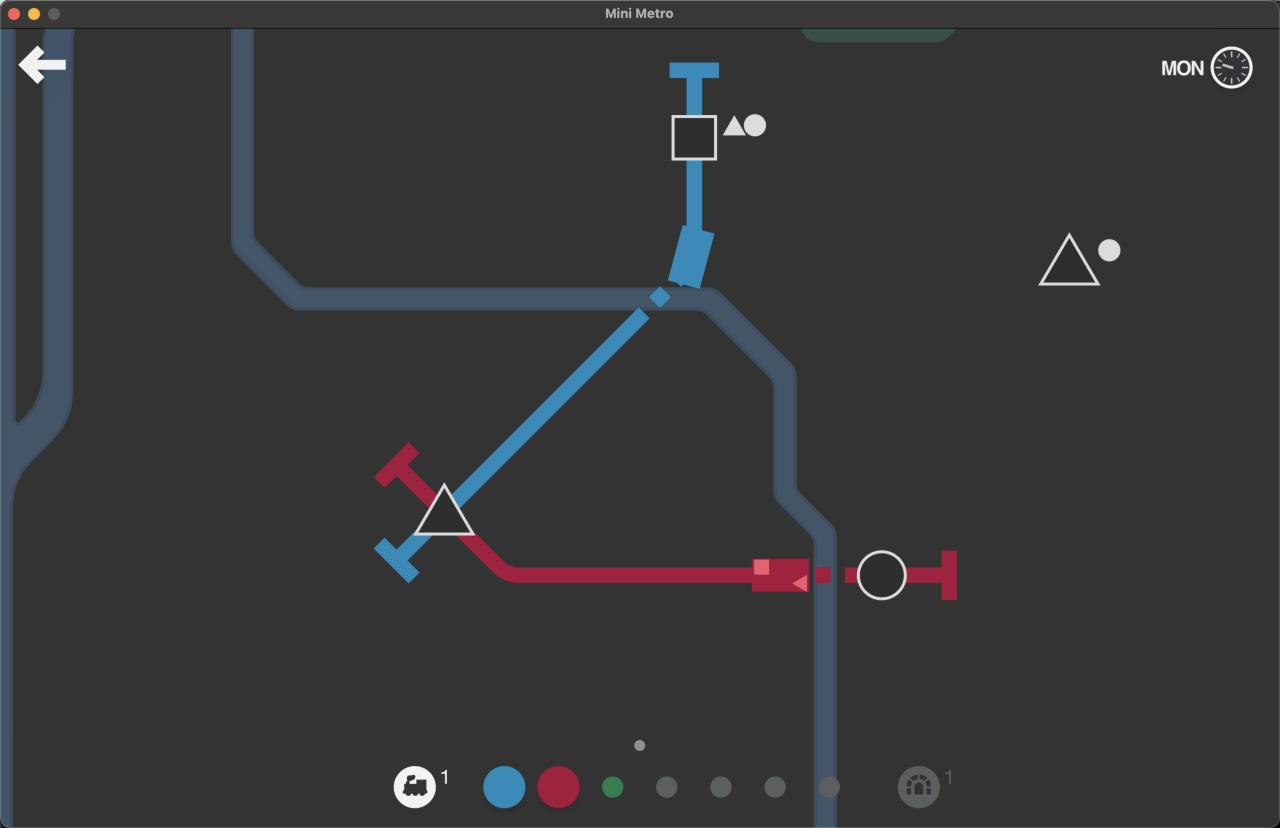CIRCLE: (855, 548, 909, 602)
SQUARE: (670, 114, 719, 163)
TRIANGLE: (412, 482, 480, 537), (1037, 231, 1103, 287)
